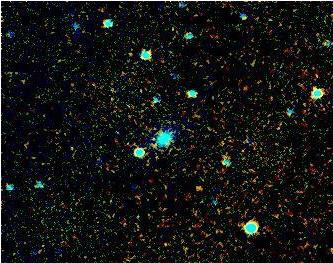star: (184, 174, 214, 204)
